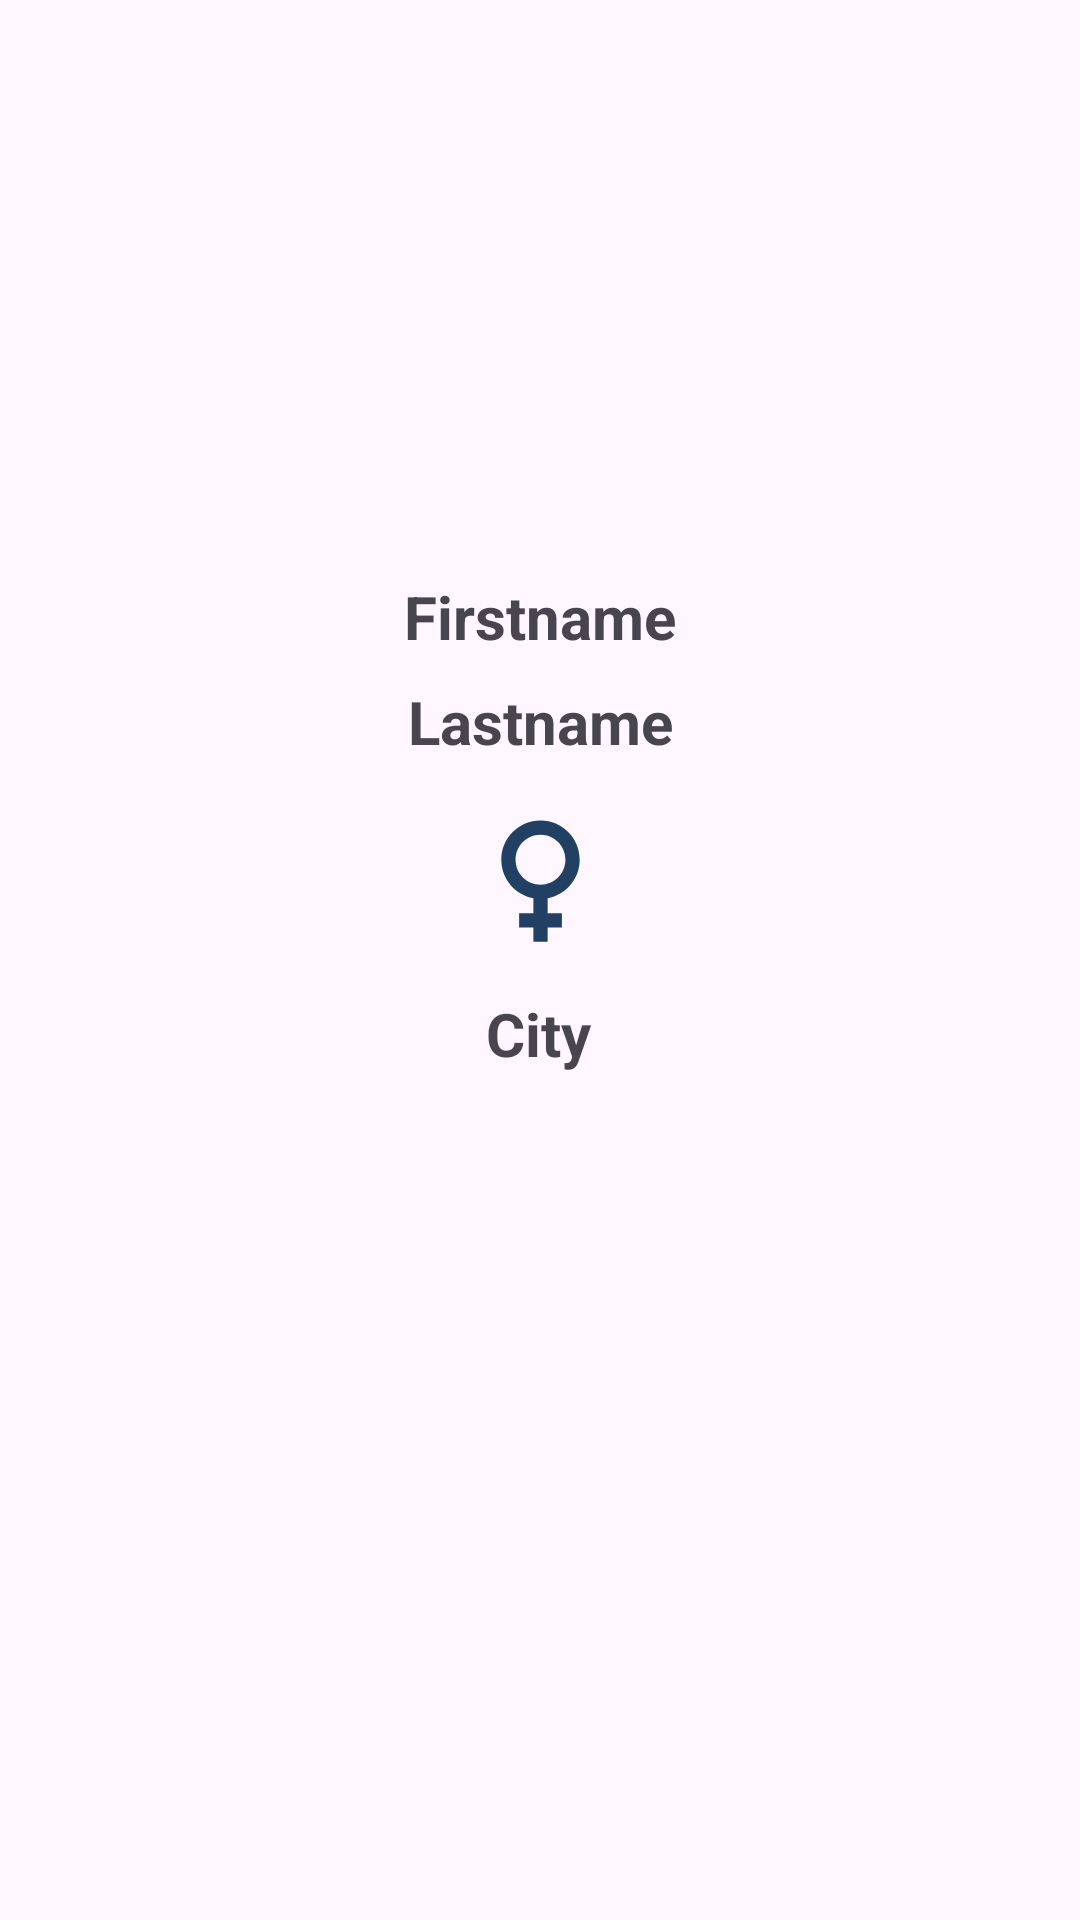

Icons on this 1080 x 1920 Android screen, each with the point to tap as (x=x, y=y):
female: (x=540, y=881)
